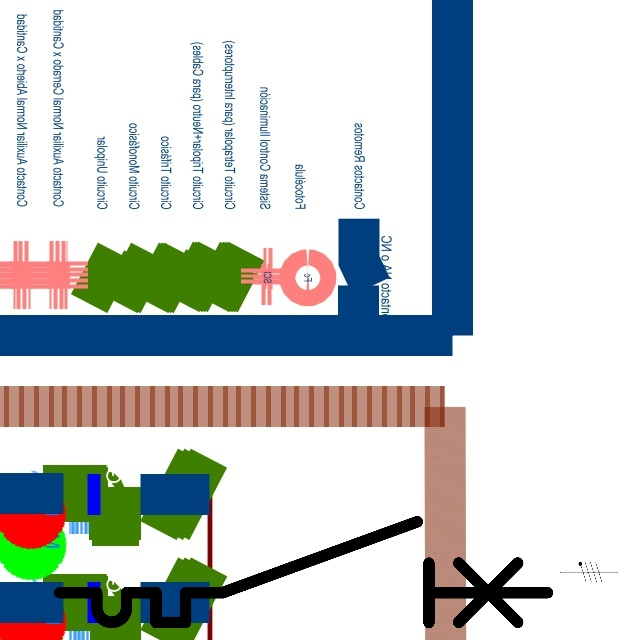interruptor_termomagnetico: (47, 509, 560, 635)
